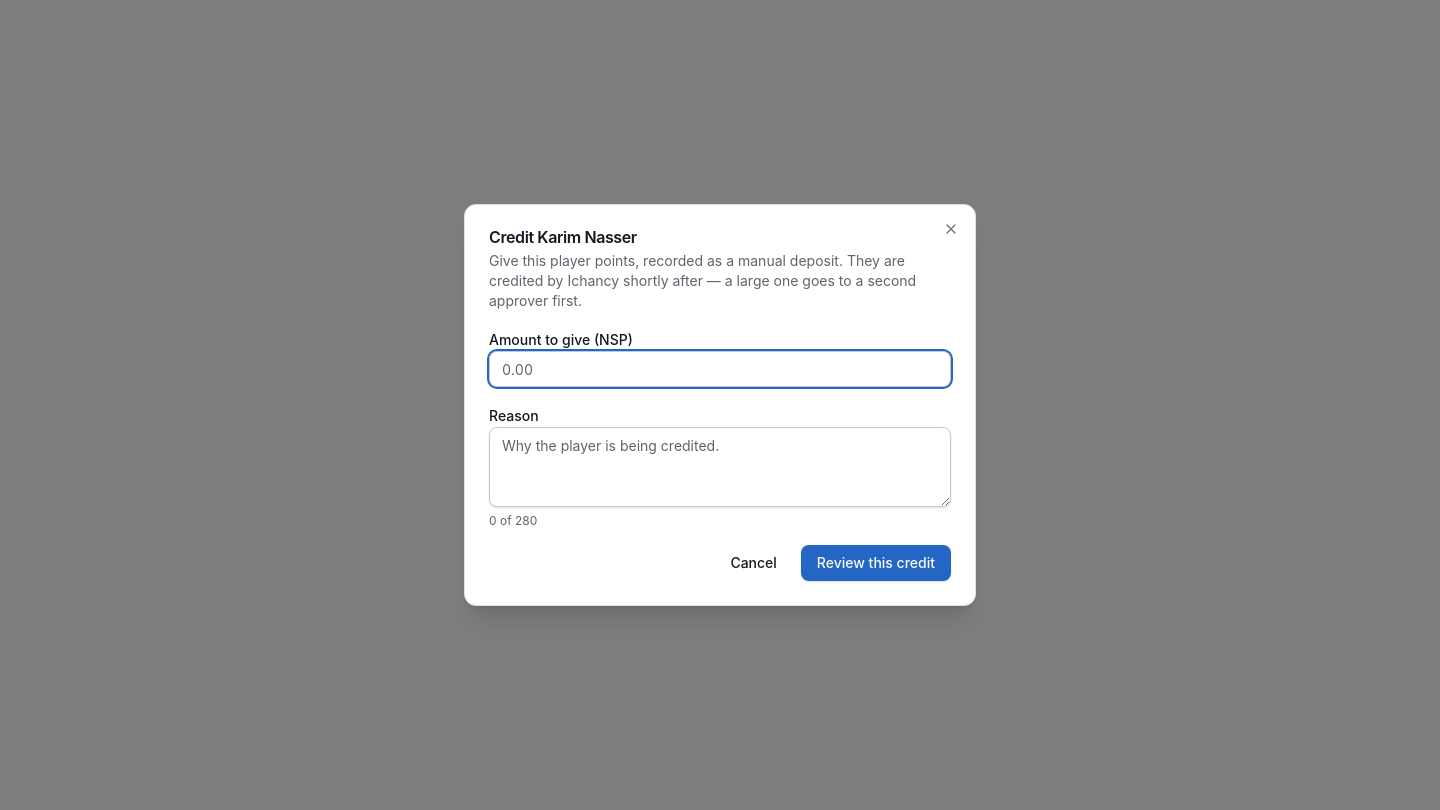
Test: CreditPlayerDialog › refuses an amount that is not a plain decimal, rather than guessing at it
Type "25,000" into the field labelled "Amount to give (NSP)" at (720, 369), box [489,351,951,387]
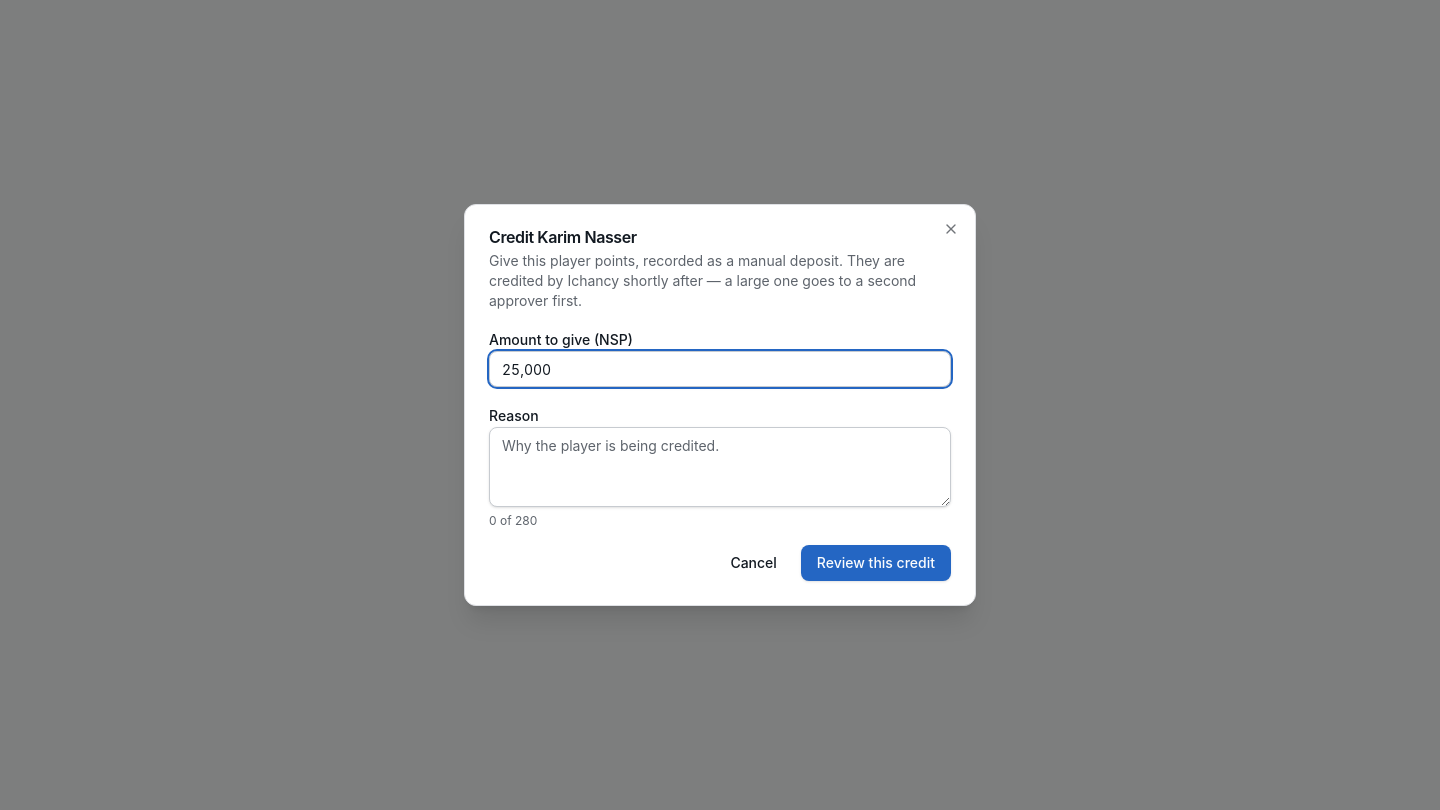
Type "Paid at the office" into the text box labelled "Reason" at (720, 467), box [489,427,951,507]
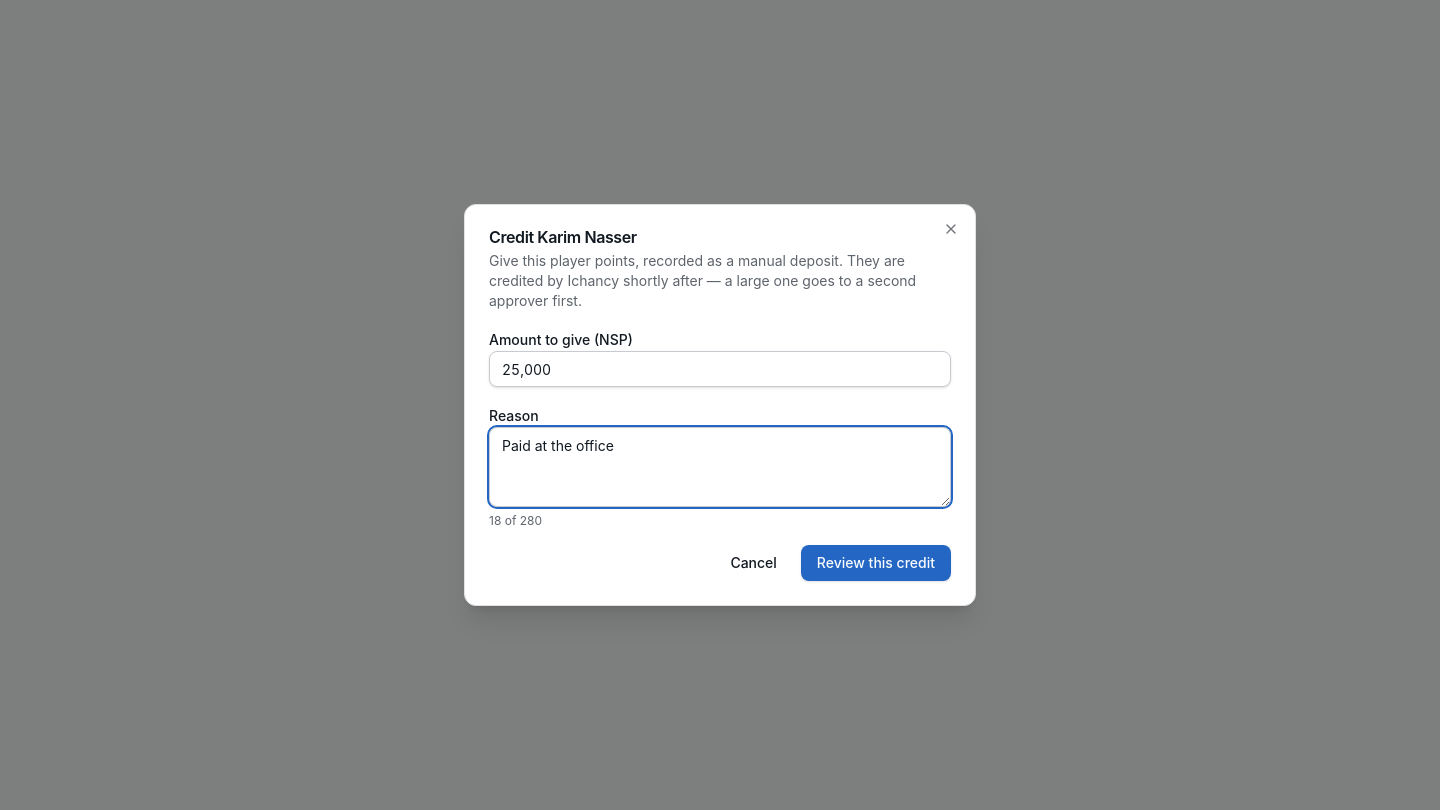
Click the button "Review this credit" at (876, 563), box [801,545,951,581]
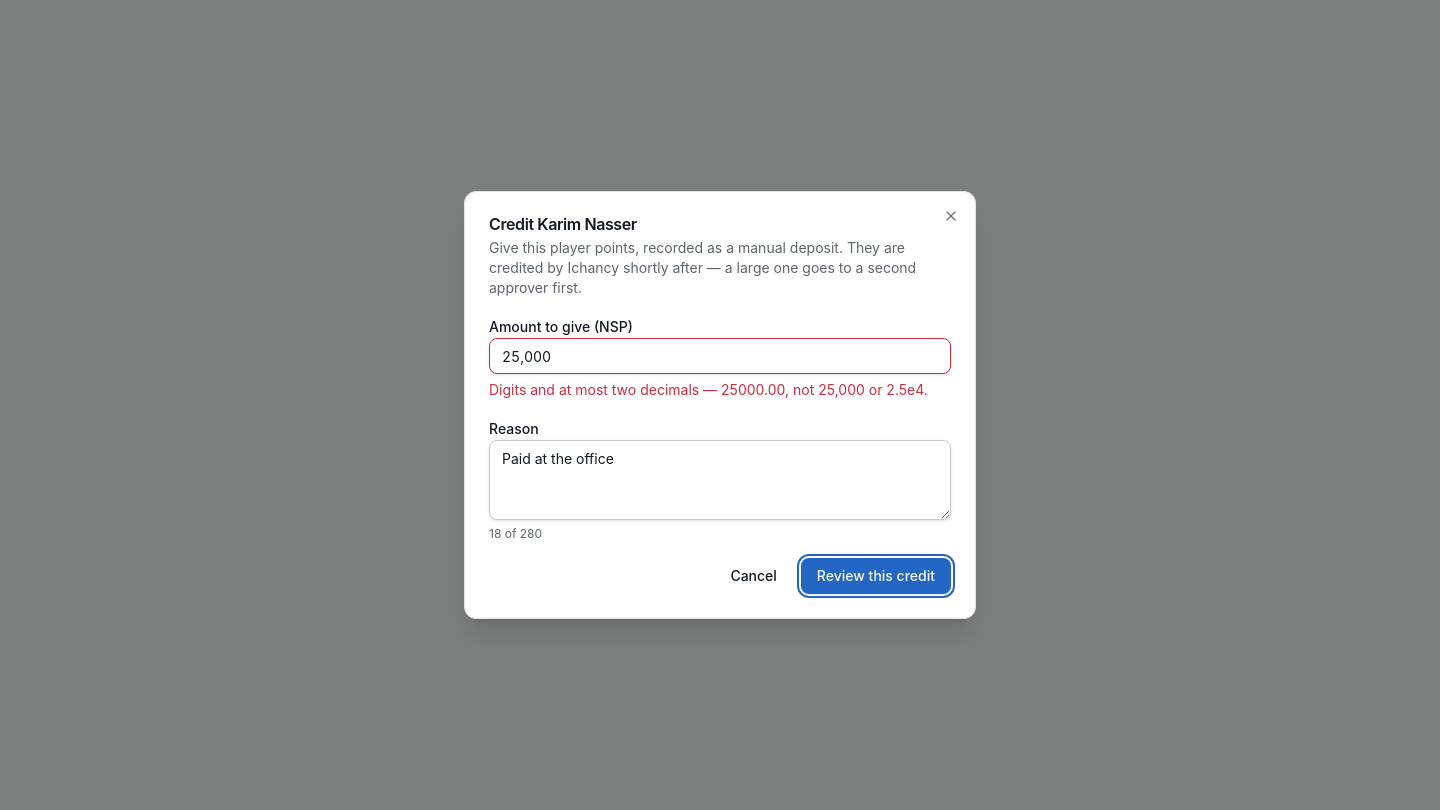
Expected: the text "Digits and at most two decimals — 25000.00, not 25,000 or 2.5e4." is shown, [489,380,951,400]
